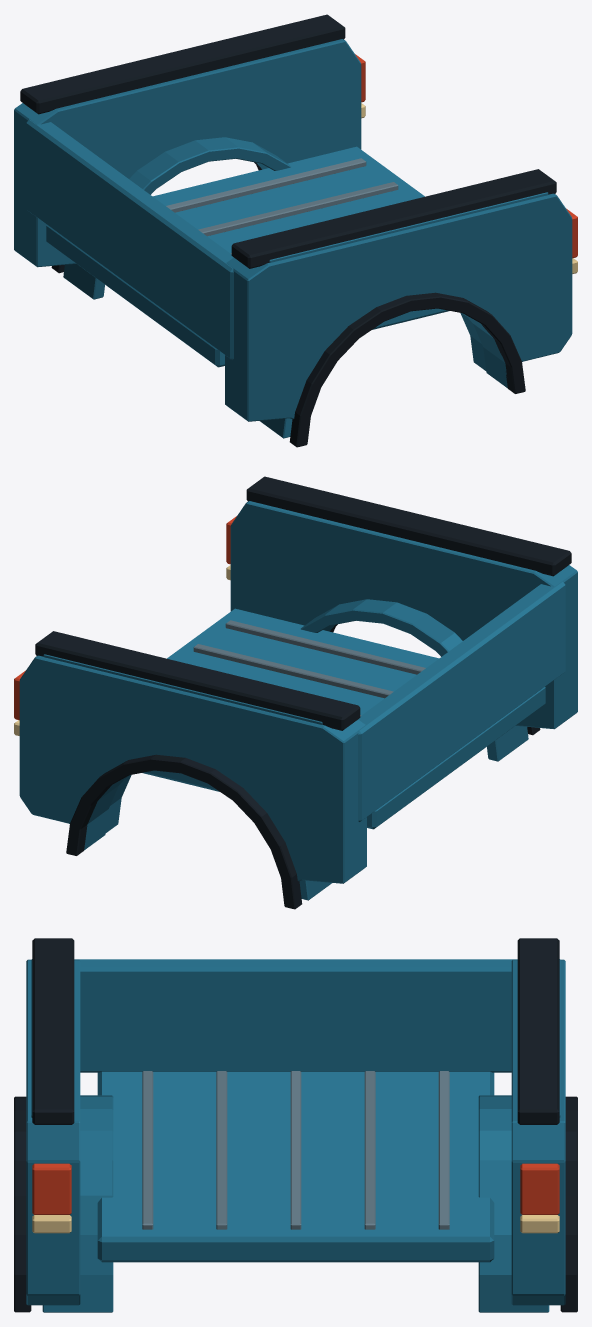
The model's file is QC_PickupBed.fbx.
3 views of the same model, one above another, from view 1: azimuth 30°, elevation 25°; view 2: azimuth 150°, elevation 25°; view 3: azimuth 270°, elevation 25° (orthographic). The views are drawn at different scales.
Visible parts, largest first — view 1: QC_PickupBed; view 2: QC_PickupBed; view 3: QC_PickupBed.
Part boxes in pixels (left/top/right/bottom): QC_PickupBed: left=14, top=14, right=577, bottom=447; QC_PickupBed: left=14, top=476, right=577, bottom=909; QC_PickupBed: left=14, top=938, right=577, bottom=1312.
Bounding box in the file's own units: 1.5 × 0.8355 × 1.9.
